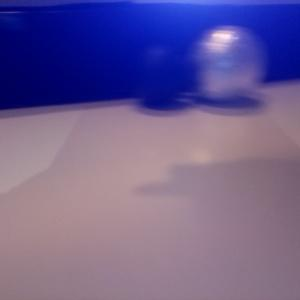alive_ball: (189, 27, 268, 104)
dead_ball: (132, 44, 188, 105)
